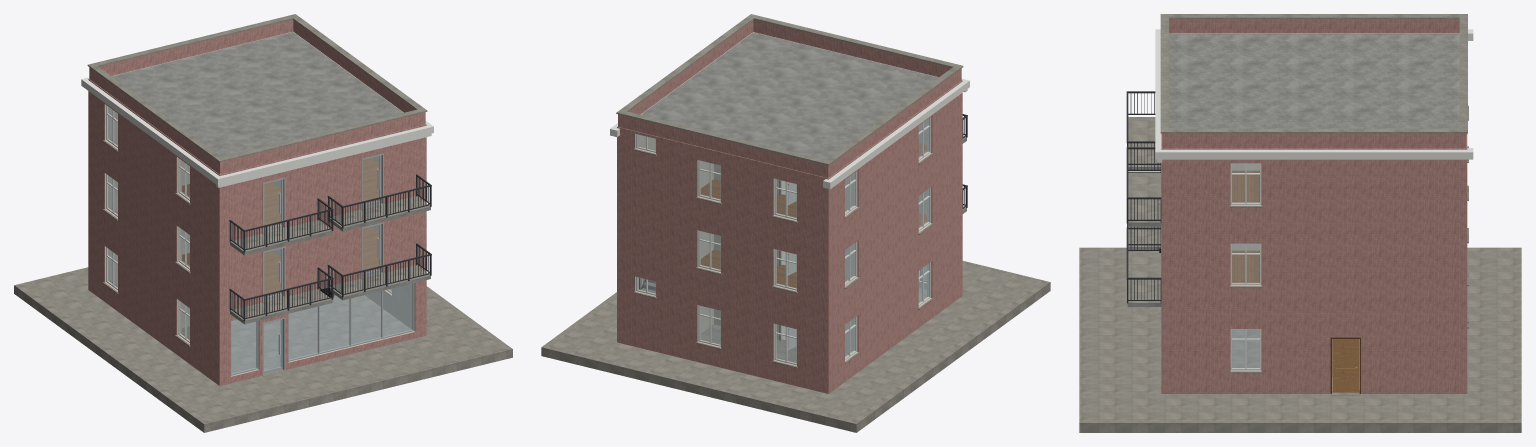
File: b_nola_iron_balcony.gltf
3 renders of one model, left to right at view 1: azimuth 30°, elevation 25°; view 2: azimuth 150°, elevation 25°; view 3: azimuth 270°, elevation 25°, orthographic. The views are drawn at different scales.
Visible parts, largest first — view 1: S_nola_iron_balcony, D_nola_iron_balcony_F1_S2_Door0, D_nola_iron_balcony_F2_S1_Door0, D_nola_iron_balcony_F3_S1_Door0, D_nola_iron_balcony_F3_S0_Door0, D_nola_iron_balcony_F2_S0_Door0; view 2: S_nola_iron_balcony; view 3: S_nola_iron_balcony, D_nola_iron_balcony_F1_E1_Door0.
Boxes of the visible parts, x1,y1,x2,y2 form: S_nola_iron_balcony: (14,14,512,432); D_nola_iron_balcony_F1_S2_Door0: (263,319,282,373); D_nola_iron_balcony_F2_S1_Door0: (362,224,381,276); D_nola_iron_balcony_F3_S1_Door0: (362,155,381,207); D_nola_iron_balcony_F3_S0_Door0: (264,179,282,231); D_nola_iron_balcony_F2_S0_Door0: (264,248,282,300); S_nola_iron_balcony: (541,14,1050,432); S_nola_iron_balcony: (1079,14,1521,432); D_nola_iron_balcony_F1_E1_Door0: (1332,339,1359,392).
Size of the model in its own units: 15 by 10.86 by 16.
20 materials, 10 textured.
